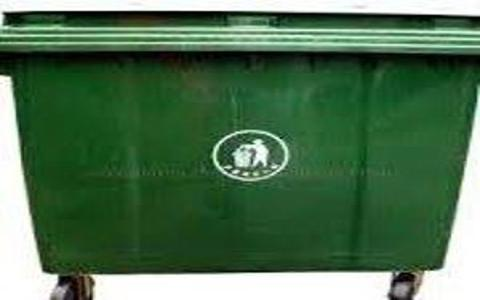Proper garbage: (6, 1, 476, 298)
